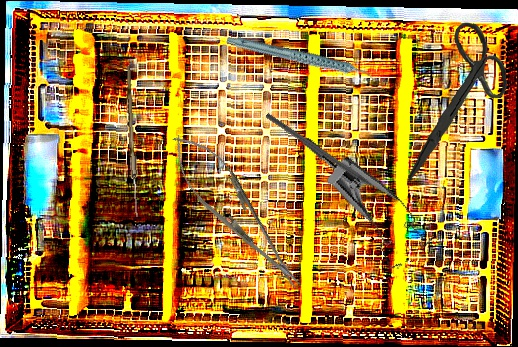Handpiece: (225, 8, 376, 111)
Hook Surgical: (264, 112, 392, 201)
Iris Scissors: (400, 19, 512, 182)
Needle Holder: (157, 122, 315, 301)
Speculum: (268, 133, 450, 281)
Surgical Spoon: (123, 65, 141, 218)
